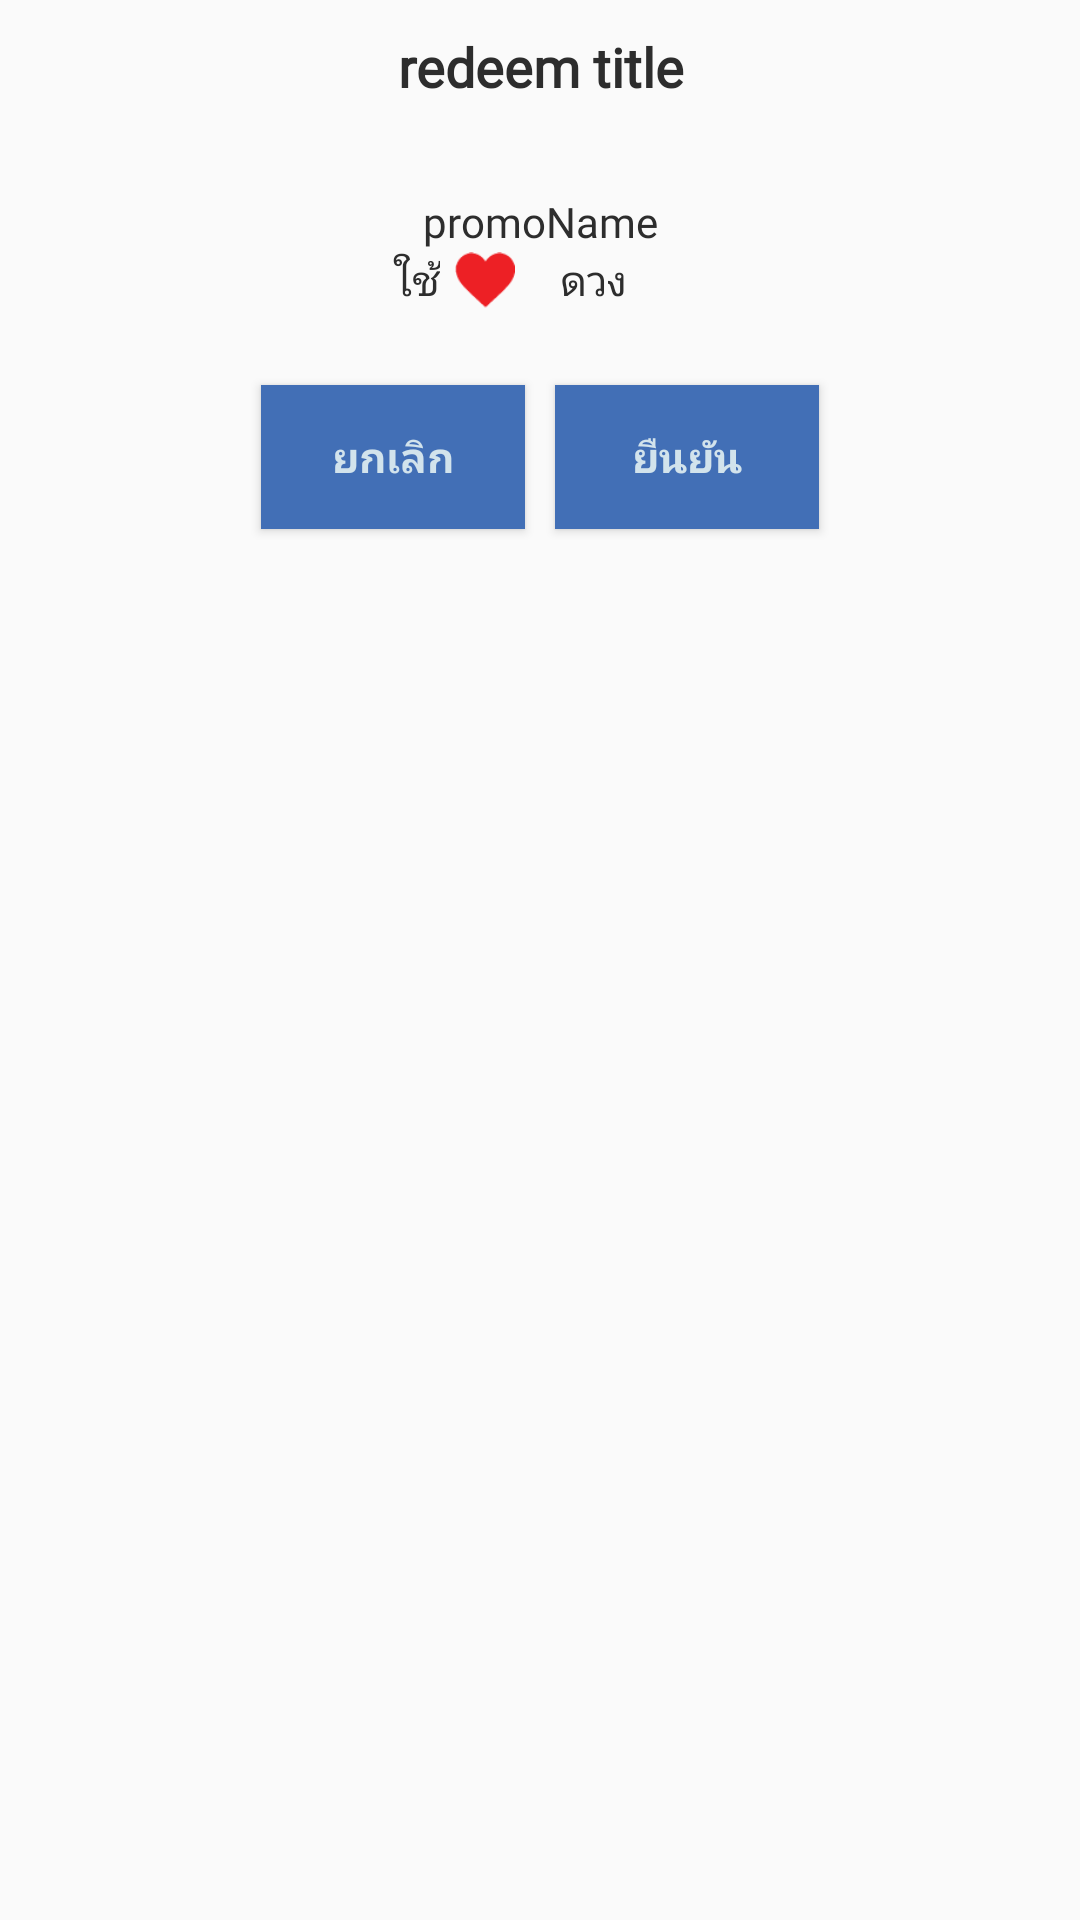

Locate icon controls on the screen. Image size 1080×1920, boxes as (x1, y1, x2, y2).
heart: (455, 252, 515, 308)
